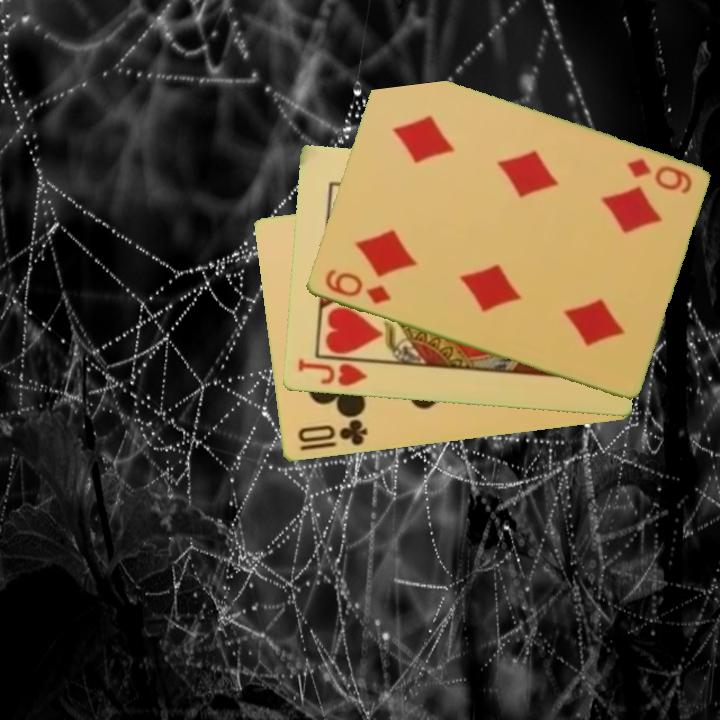10c: (294, 416, 370, 454)
6d: (622, 155, 695, 197), (321, 266, 393, 307)
Jh: (294, 355, 377, 390)
